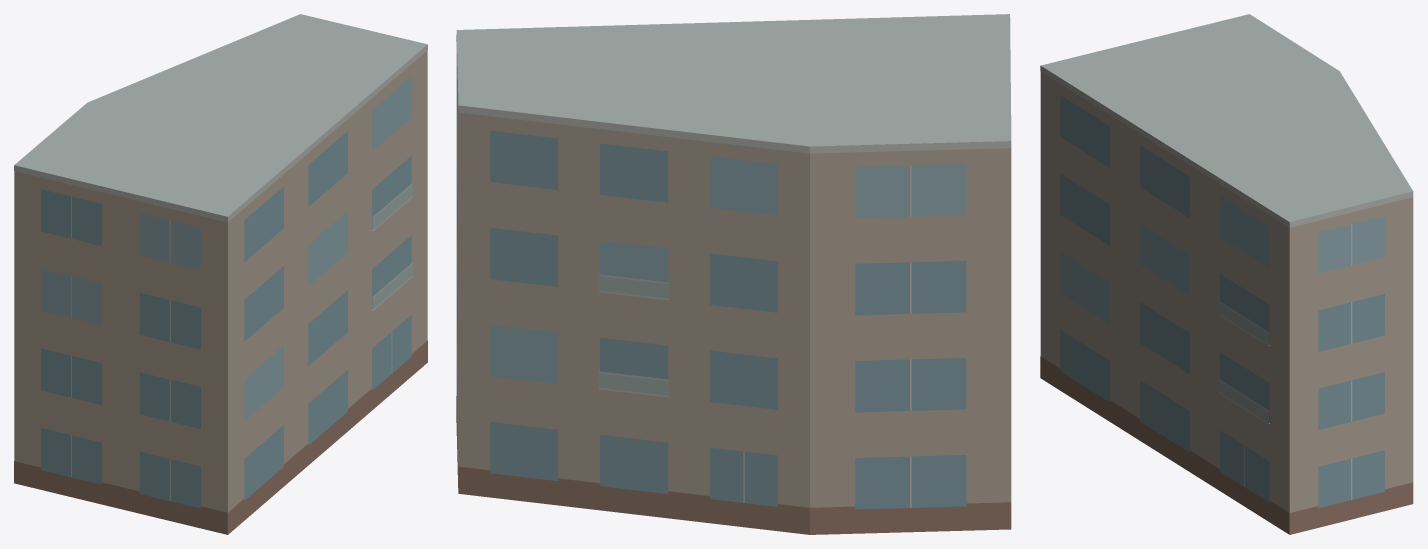
Rendered from survey-upis-32759962.glb.
The picture shows the model from 3 angles, left to right: view 1: azimuth 30°, elevation 25°; view 2: azimuth 150°, elevation 25°; view 3: azimuth 270°, elevation 25°; orthographic projection. The views are drawn at different scales.
Parts seen in each view (by area): view 1: survey-upis-32759962.tmp; view 2: survey-upis-32759962.tmp; view 3: survey-upis-32759962.tmp.
Part boxes in pixels (x1,y1,x2,y2): survey-upis-32759962.tmp: (14, 14, 427, 534); survey-upis-32759962.tmp: (456, 14, 1011, 534); survey-upis-32759962.tmp: (1040, 14, 1413, 534).
Bounding box in the file's own units: 19 × 13.3 × 14.38.
